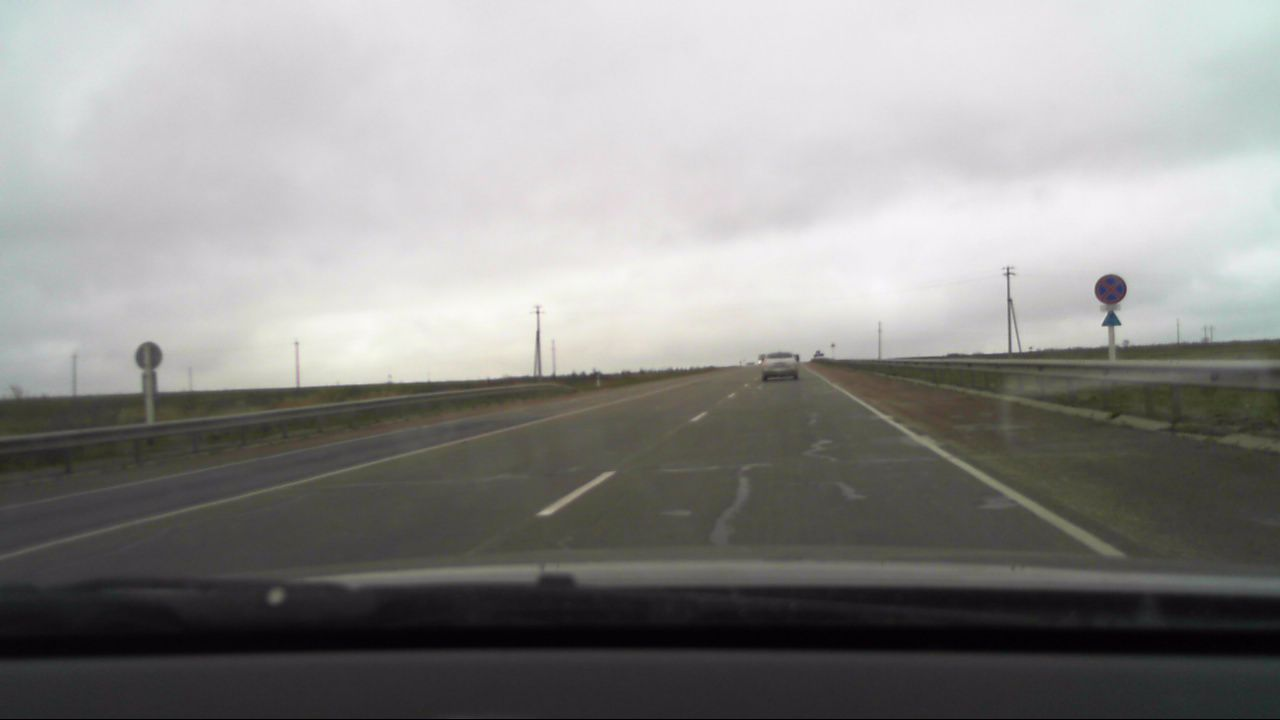No Parking: (1094, 273, 1128, 306)
